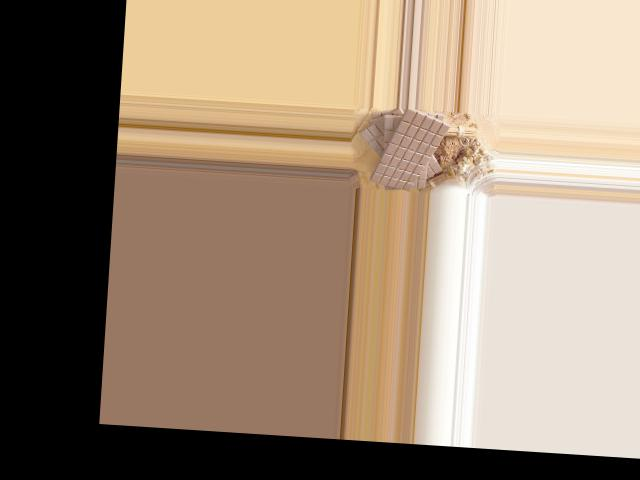chocolate: (368, 106, 455, 190)
